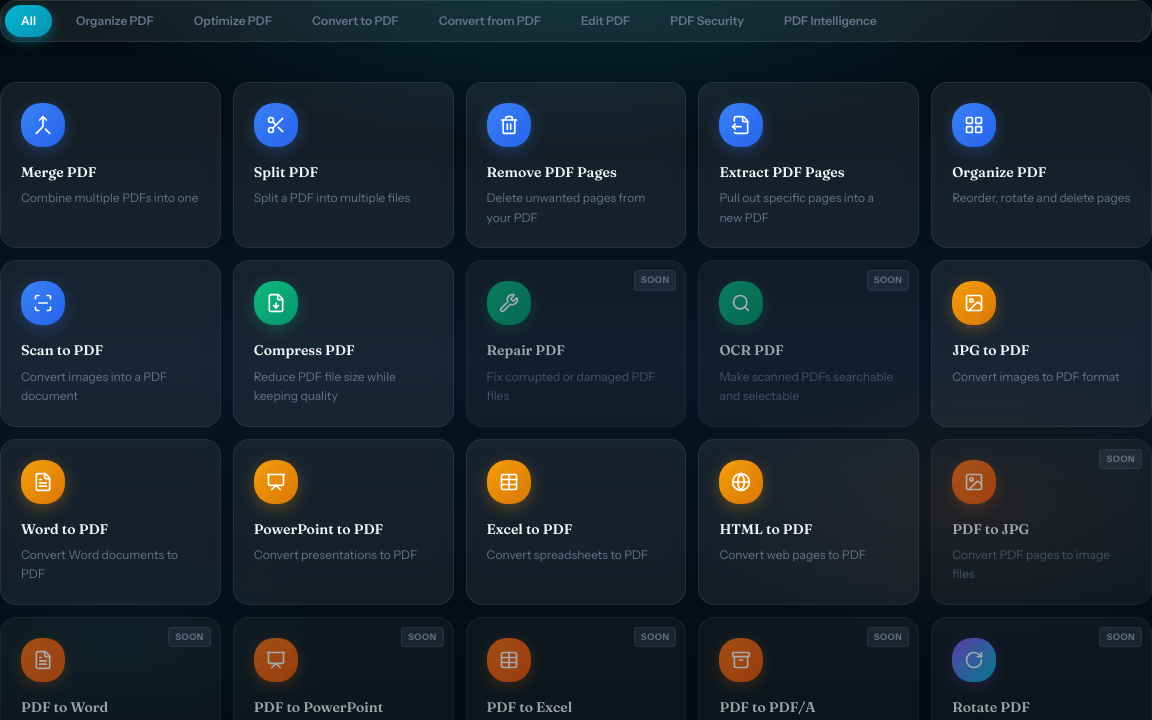
it: ToolGrid › filters tools when category tab clicked
Click the tab "Organize PDF" at (115, 21), box [60, 5, 170, 37]
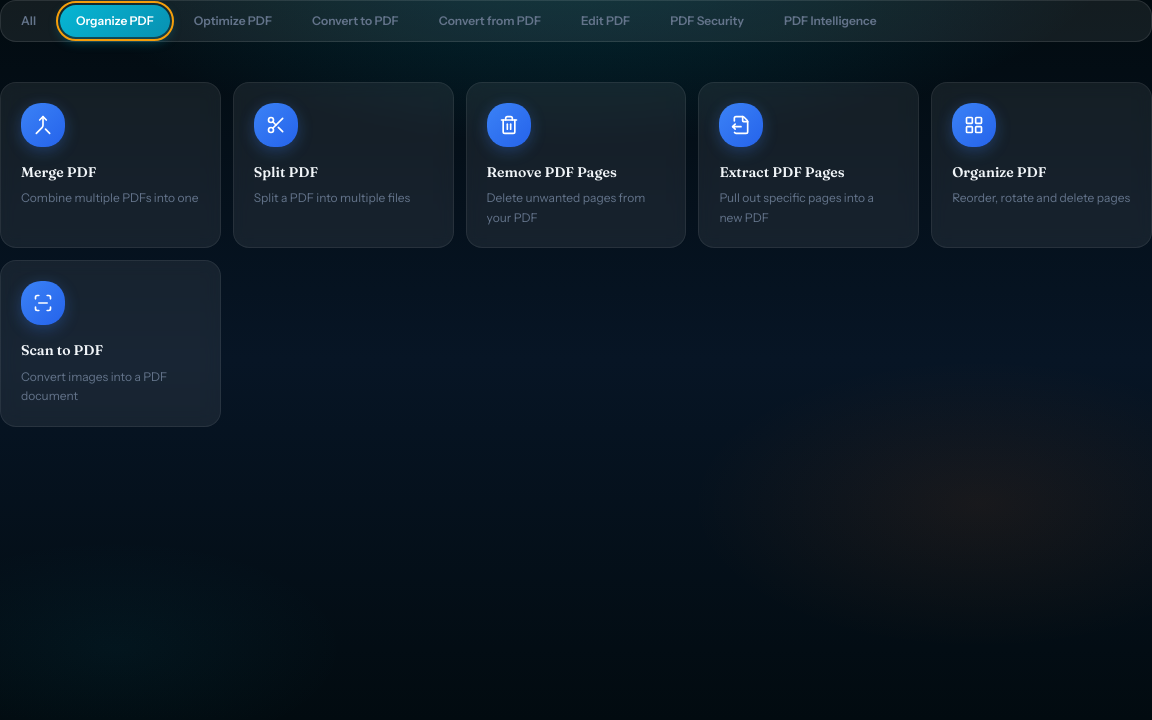
Result: the number of links is 6 at [0, 82, 221, 248]; [233, 82, 454, 248]; [466, 82, 686, 248]; [698, 82, 919, 248]; [931, 82, 1151, 248]; [0, 260, 221, 427]
